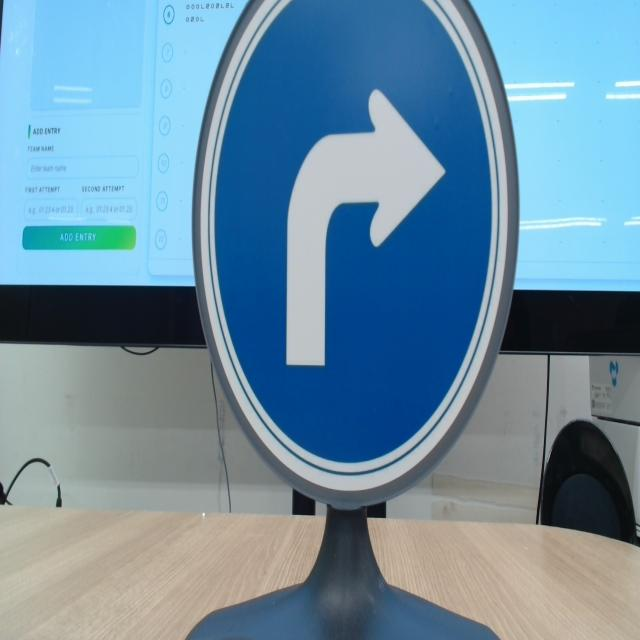right_dierection: (184, 0, 524, 517)
